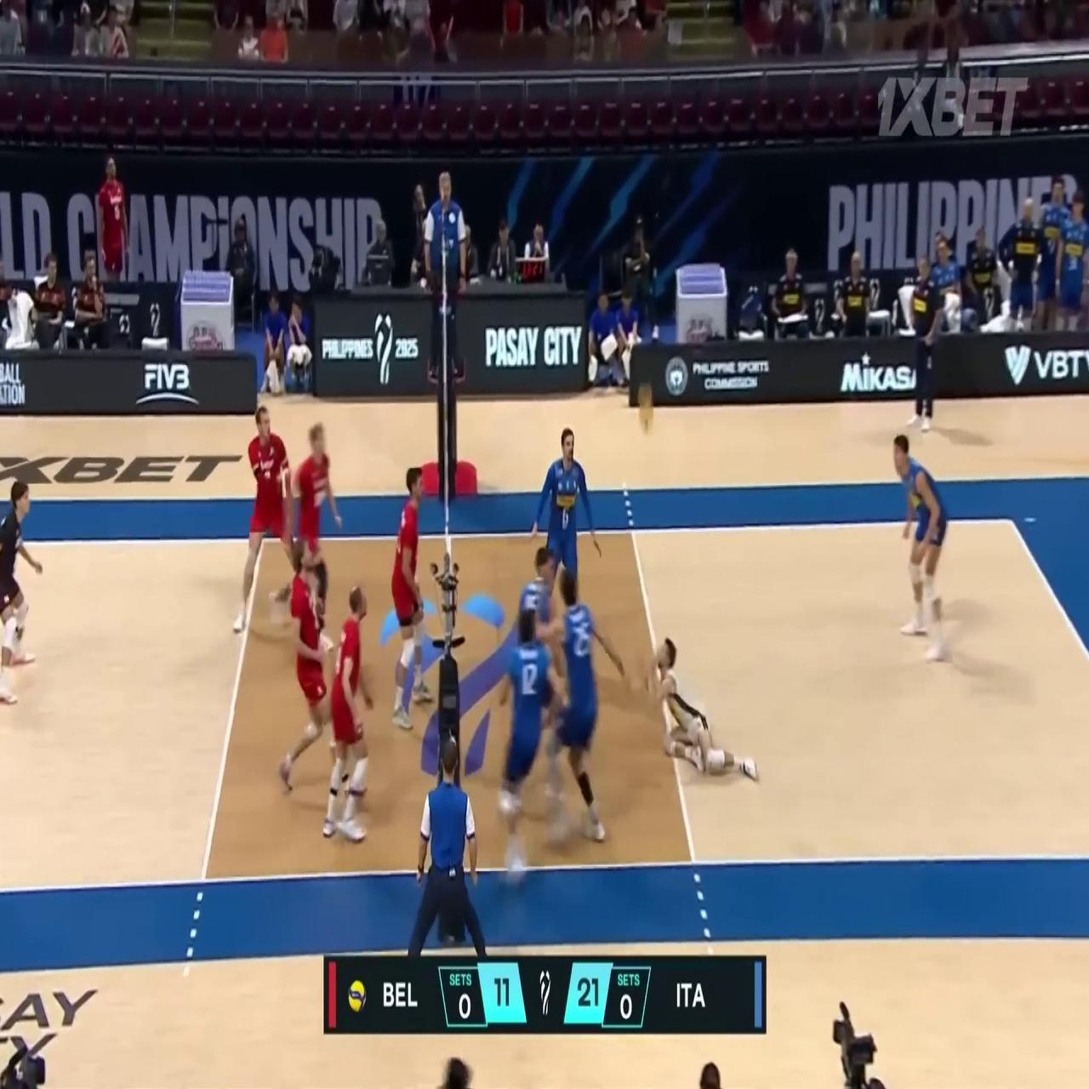ball: (638, 385, 653, 432)
